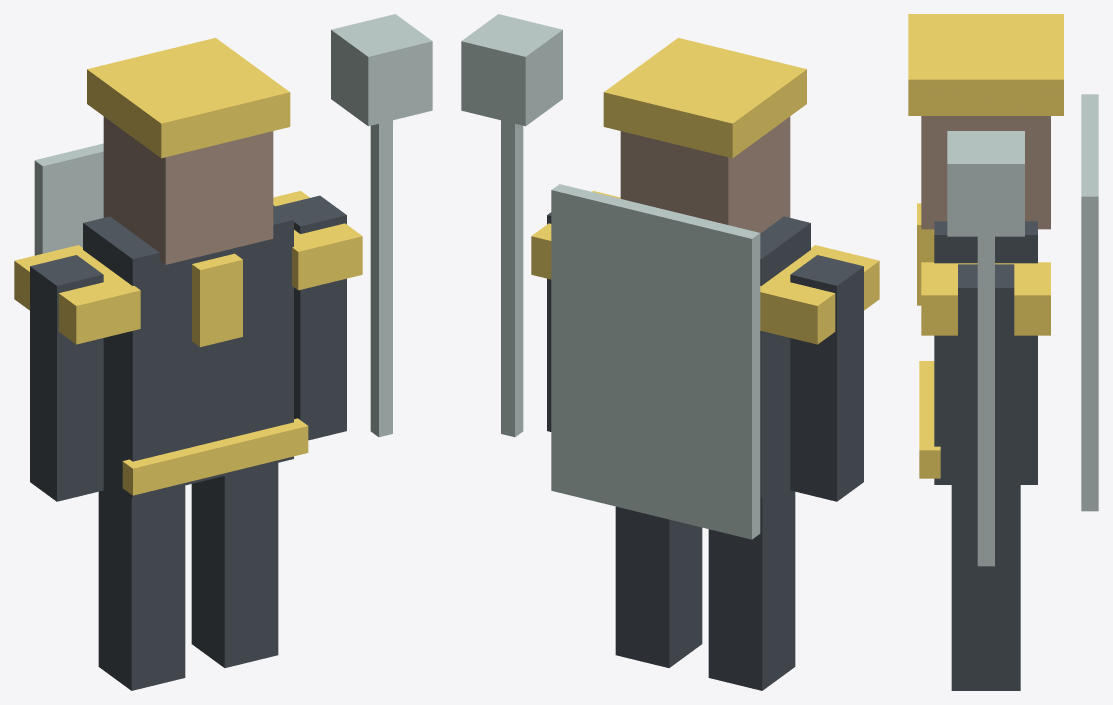
File: 09_tovin_latchward_ranger_under_trench.glb
3 renders of one model, left to right at view 1: azimuth 30°, elevation 25°; view 2: azimuth 150°, elevation 25°; view 3: azimuth 270°, elevation 25°, orthographic. The views are drawn at different scales.
Parts seen in each view (by area): view 1: Tovin Latchward, Ranger under Trench; view 2: Tovin Latchward, Ranger under Trench; view 3: Tovin Latchward, Ranger under Trench.
Boxes of the visible parts, x1,y1,x2,y2 form: Tovin Latchward, Ranger under Trench: [14, 14, 432, 690]; Tovin Latchward, Ranger under Trench: [461, 14, 879, 690]; Tovin Latchward, Ranger under Trench: [908, 14, 1098, 690].
Size of the model in its own units: 1.11 by 1.66 by 0.4721.
